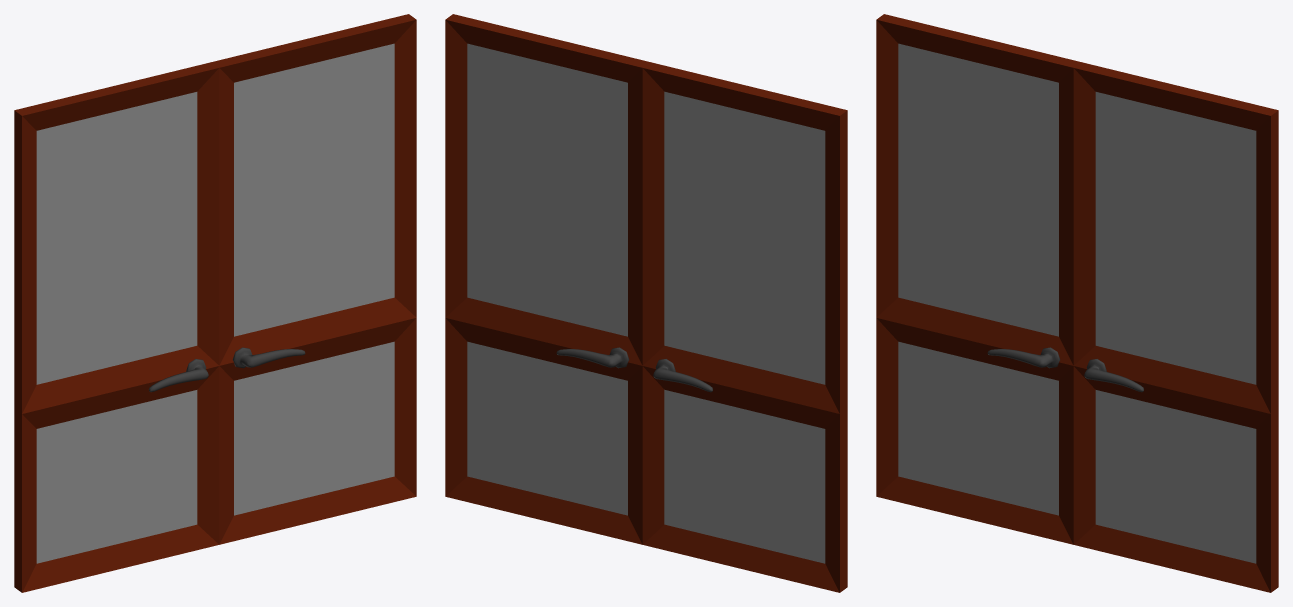
The model's file is dooroutside.fbx.
3 views of the same model, side by side, from view 1: azimuth 30°, elevation 25°; view 2: azimuth 150°, elevation 25°; view 3: azimuth 330°, elevation 25° (orthographic).
Parts seen in each view (by area): view 1: Cube.001, Cube; view 2: Cube.001, Cube; view 3: Cube.001, Cube.
Boxes of the visible parts, x1,y1,x2,y2 form: Cube.001: (36,43,394,563); Cube: (14,14,416,592); Cube.001: (467,43,825,563); Cube: (445,14,847,592); Cube.001: (898,43,1256,563); Cube: (876,14,1278,592).
Size of the model in its own units: 1400 by 1617 by 180.
